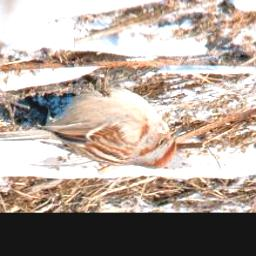Sparrow: (0, 68, 183, 171)
